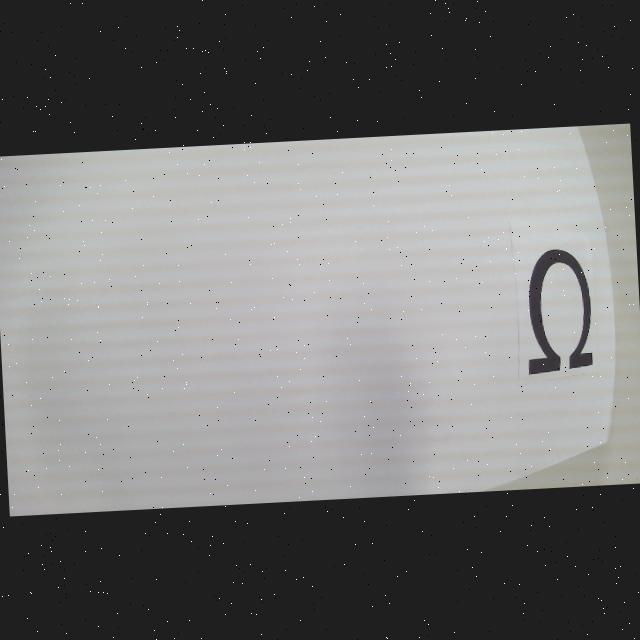OMEGA: (524, 248, 594, 375)
